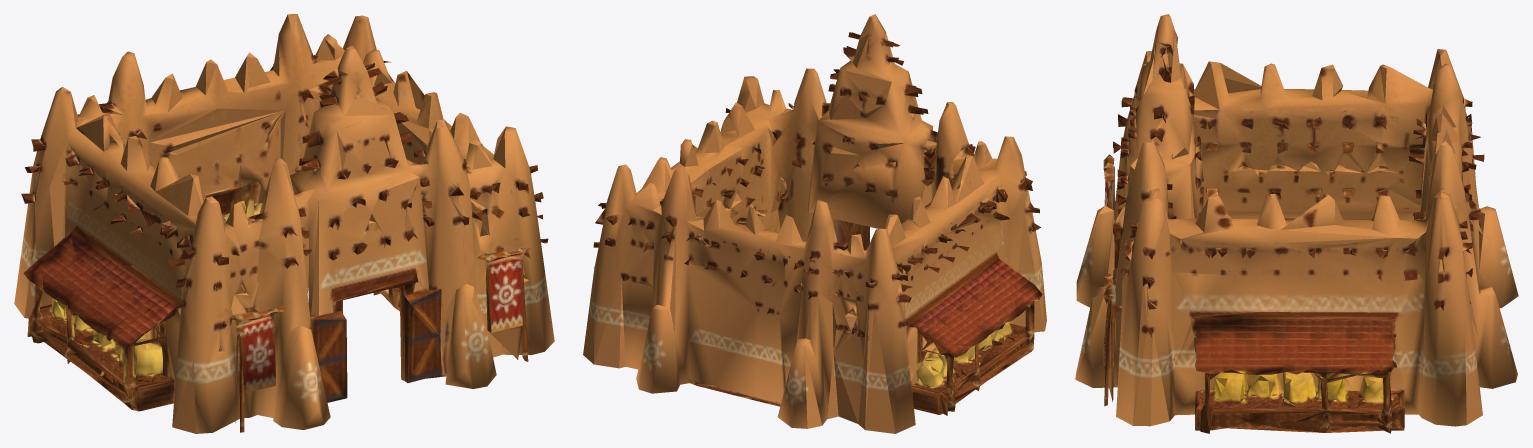
3 views of the same model, side by side, from view 1: azimuth 30°, elevation 25°; view 2: azimuth 150°, elevation 25°; view 3: azimuth 270°, elevation 25° (orthographic). The views are drawn at different scales.
Visible parts, largest first — view 1: output_unwrapped; view 2: output_unwrapped; view 3: output_unwrapped.
Part boxes in pixels (<box>): output_unwrapped: <box>14,14,554,433</box>; output_unwrapped: <box>583,14,1046,433</box>; output_unwrapped: <box>1075,14,1518,433</box>.
Bounding box in the file's own units: 12.32 × 9 × 11.25.
Materials: 1 (1 with a texture image).
